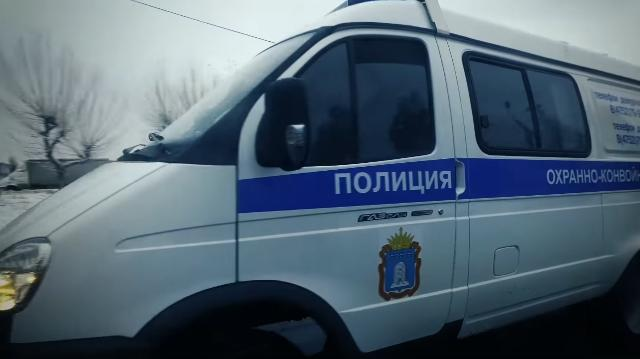police car: (1, 1, 640, 359)
